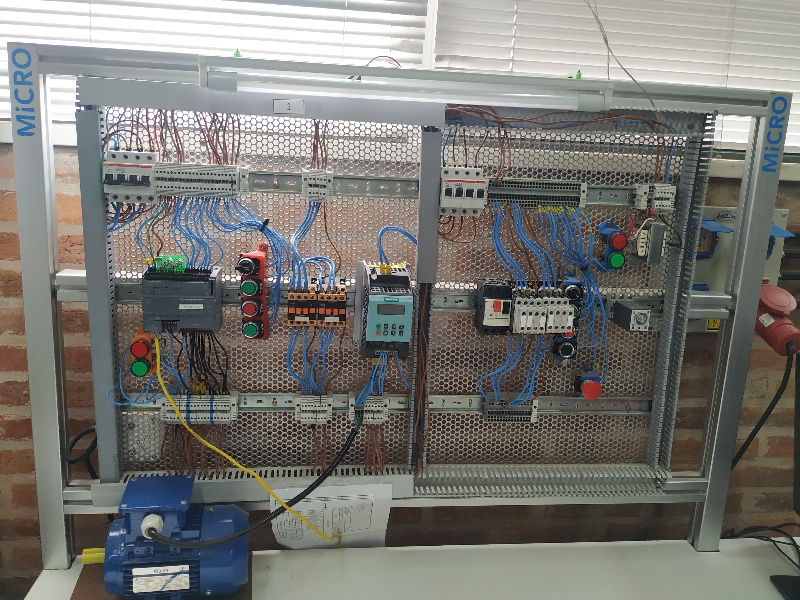Tablero 1: (88, 93, 697, 490)
